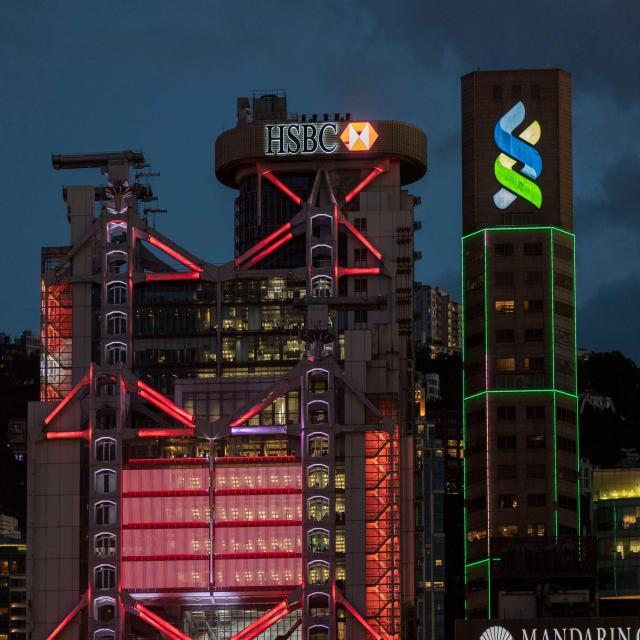Standard Chartered: (491, 96, 544, 212)
